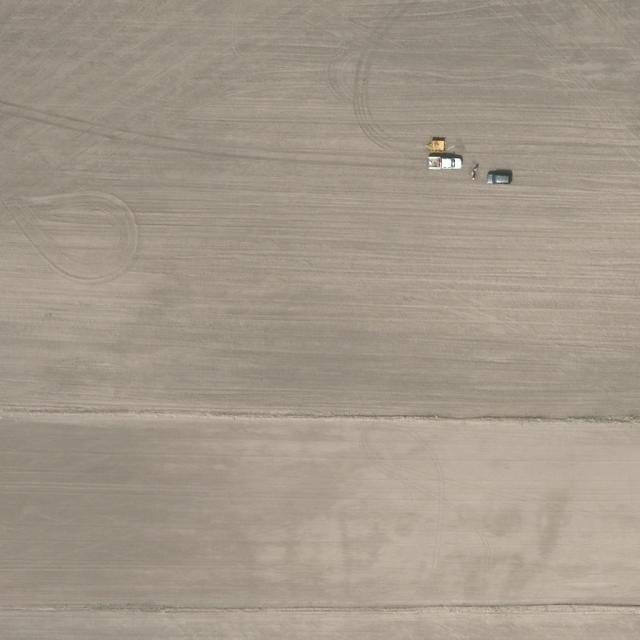vehicle: (428, 156, 463, 171), (486, 172, 512, 185)
